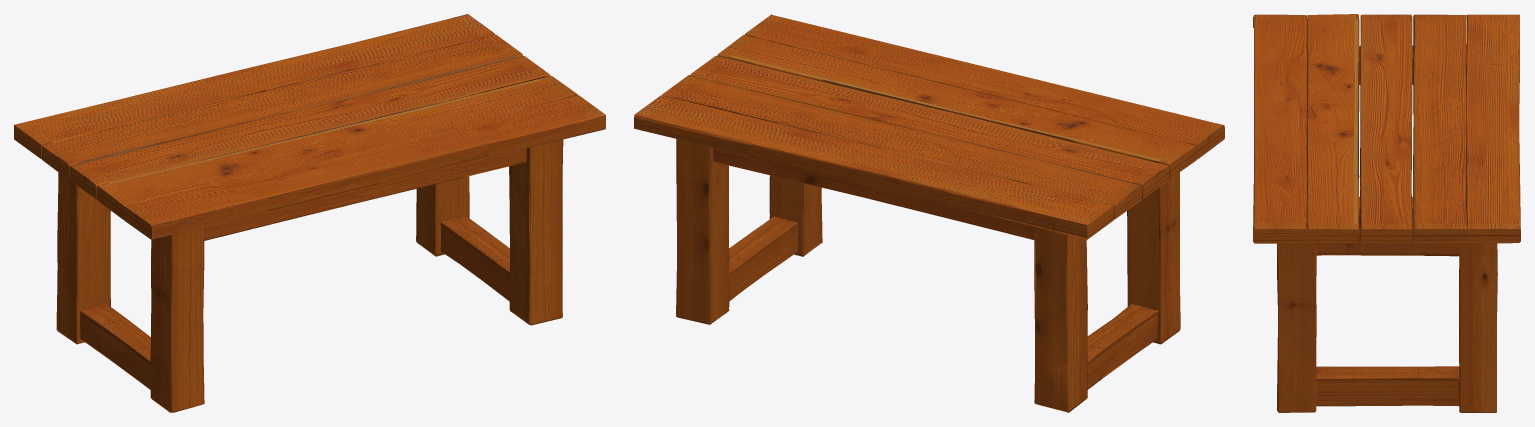
File: table.glb
The picture shows the model from 3 angles, left to right: view 1: azimuth 30°, elevation 25°; view 2: azimuth 150°, elevation 25°; view 3: azimuth 270°, elevation 25°; orthographic projection. The views are drawn at different scales.
Size of the model in its own units: 1.8 by 0.78 by 0.95.
1 material, 1 textured.
